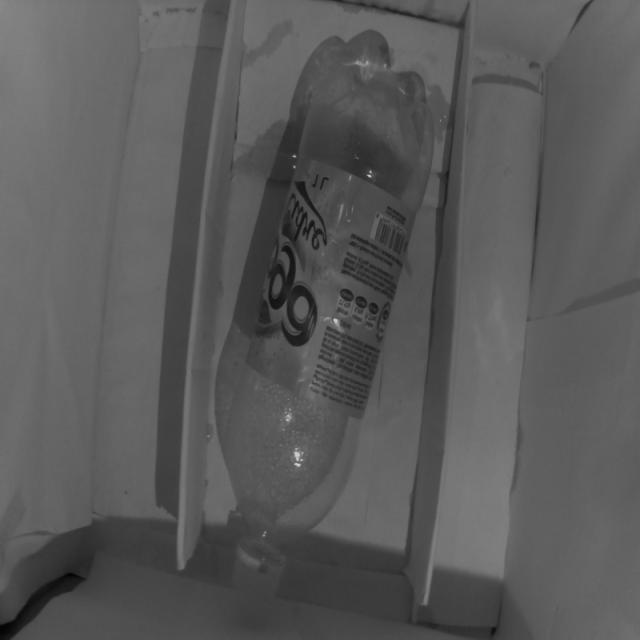bottle: (210, 33, 438, 616)
